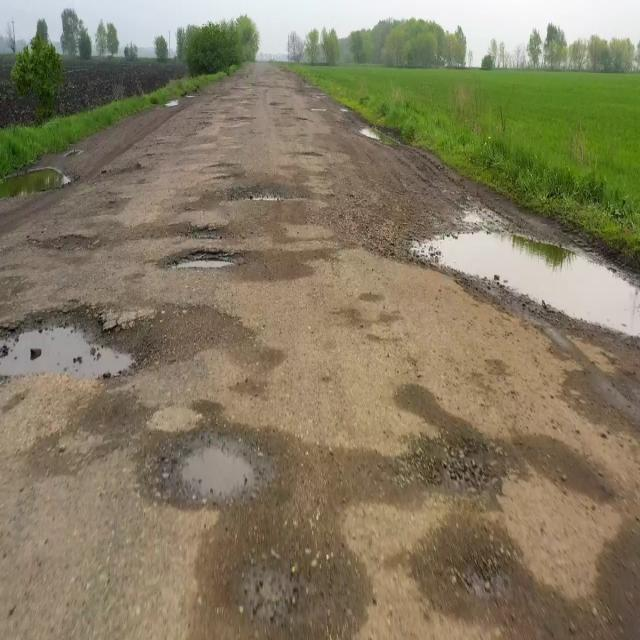road-pothole: (402, 199, 638, 335), (2, 310, 157, 382), (163, 425, 273, 509), (236, 546, 315, 628), (423, 434, 517, 495), (448, 549, 524, 608), (2, 166, 73, 201), (164, 251, 243, 272), (236, 183, 293, 204), (360, 128, 377, 136)
